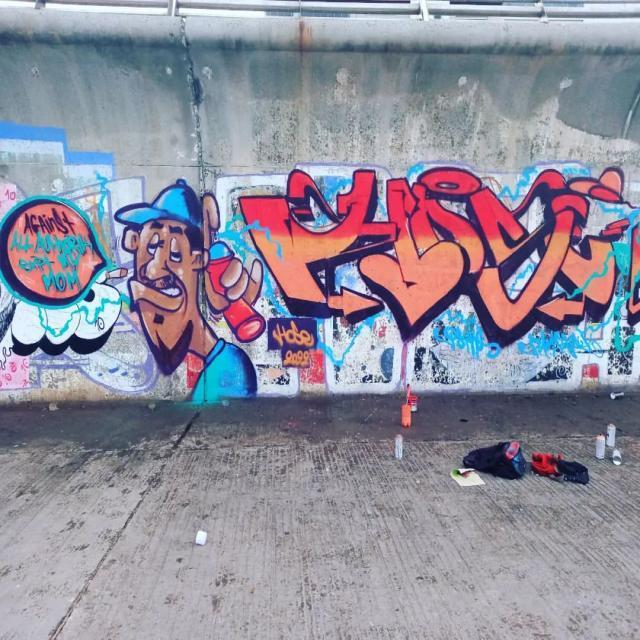-: (231, 164, 638, 356), (8, 166, 272, 418), (274, 314, 319, 376)
